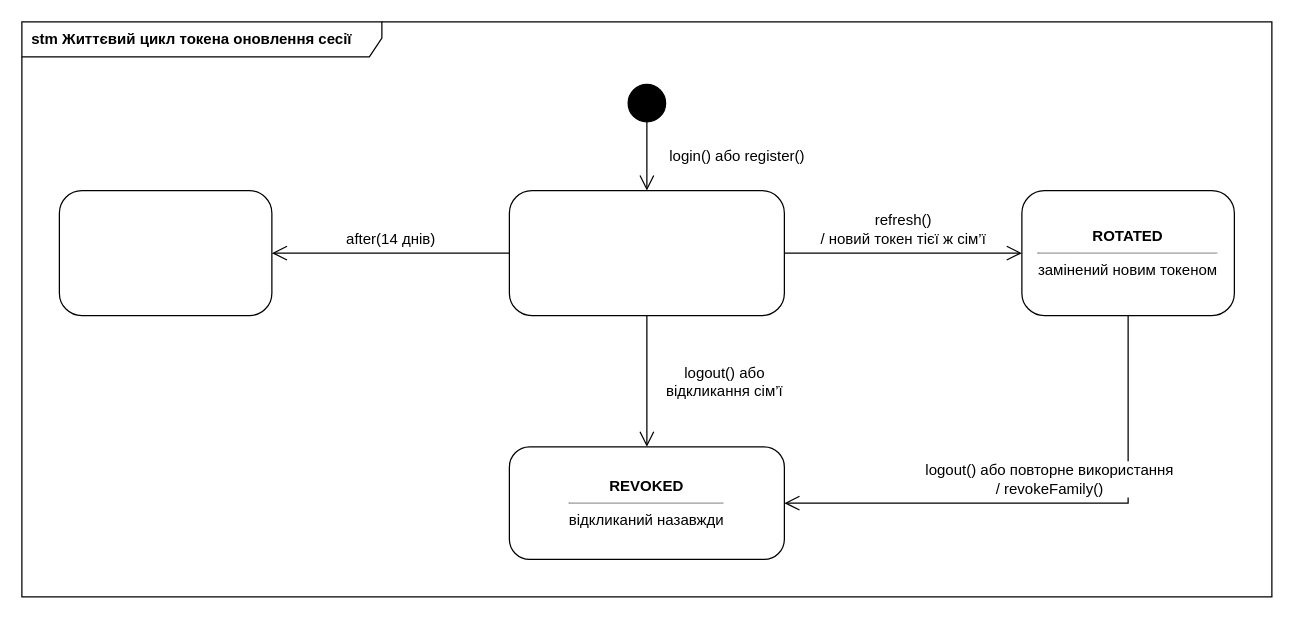
Some shapes in this 1294 by 619 pixel diagram are drawn without their labels. The centre of each missing label's shape, as x and y in pixels:
ACTIVE дійсний, можна обміняти на новий токен: the point at 646,252
EXPIRED термін дії сплив: the point at 165,252
